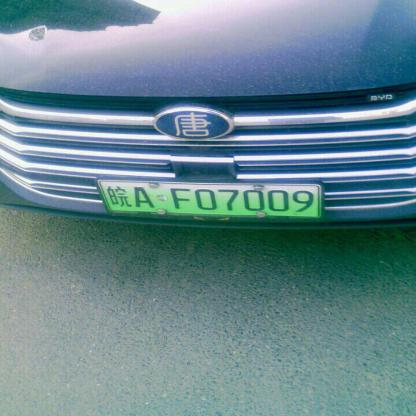lp: (98, 180, 319, 216)
